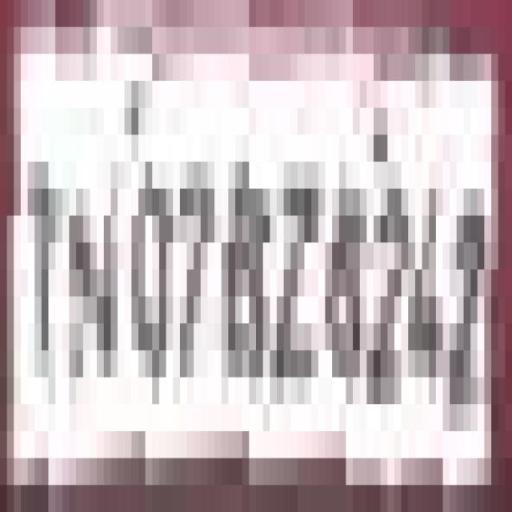number plate: (6, 0, 484, 485)
